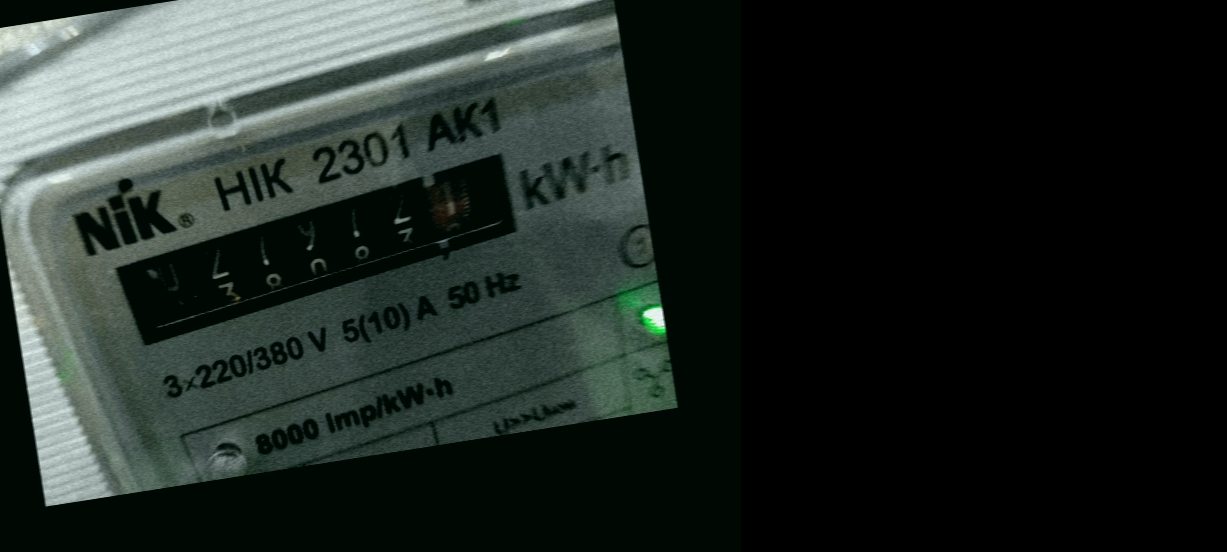0: (151, 256, 185, 296)
1: (435, 175, 464, 221)
2: (198, 240, 233, 283), (382, 187, 416, 228)
7: (337, 199, 369, 244), (247, 230, 276, 270)
9: (293, 215, 324, 254)
screen: (89, 139, 559, 361)
